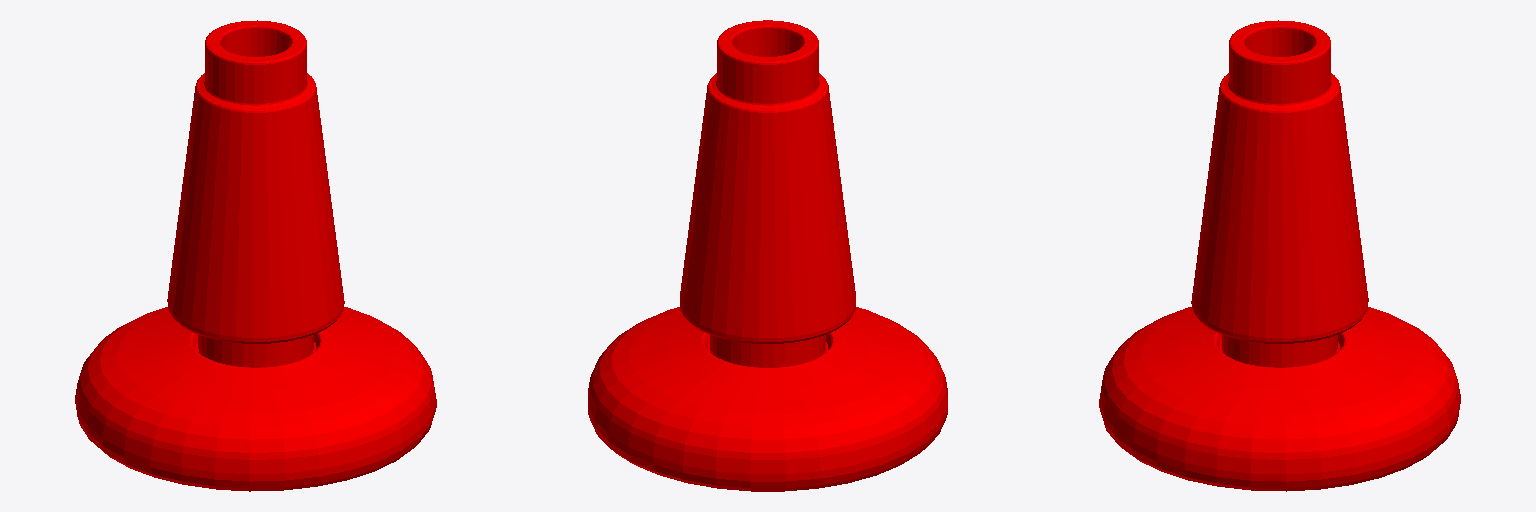
robot.urdf — corn:
<?xml version="1.0"?>
<robot name="corn">
  <link name="base">
   <contact>
      <lateral_friction value="1.0"/>
      <rolling_friction value="0.0"/>
      <contact_cfm value="0.0"/>
      <contact_erp value="1.0"/>
    </contact>
    <inertial>
      <origin rpy="0 0 0" xyz="0 0 0"/>
       <mass value="1.0"/>
       <inertia ixx="1" ixy="0" ixz="0" iyy="1" iyz="0" izz="1"/>
    </inertial>
    <visual>
      <geometry>
        <mesh filename="OBJ/corn.obj" scale="1 1 1"/>
      </geometry>
      <origin rpy="0 0 0" xyz="0 0 0" />
      <material name="red"/>
    </visual>
    <collision>
      <origin rpy="0 0 0" xyz="0 0 0"/>
      <geometry>
         <mesh filename="OBJ/corn.obj" scale="1 1 1"/>
      </geometry>
    </collision>
  </link>

<material name="red"><color rgba="0.99 0 0 1"/></material>
<material name="orange"><color rgba="1 0.5 0 1"/></material>
<material name="yellow"><color rgba="0.95 0.95 0 1"/></material>
<material name="green"><color rgba="0 0.99 0 1"/></material>
<material name="skyblue"><color rgba="0.53 0.81 0.92 1"/></material>
<material name="blue"><color rgba="0 0 0.99 1"/></material>
<material name="purple"><color rgba="0.95 0 0.95 1"/></material>



</robot>

--- Render facts (derived) ---
3 views of the same robot in one strip: view 1: azimuth 30°, elevation 25°; view 2: azimuth 150°, elevation 25°; view 3: azimuth 270°, elevation 25° (orthographic).
Model corn with 1 links and 0 joints (none), rooted at base, posed every joint at zero.
Visible links, largest first — view 1: base; view 2: base; view 3: base.
Link boxes in pixels (<box>): base: <box>75,20,436,491</box>; base: <box>588,20,947,491</box>; base: <box>1099,20,1460,491</box>.
Size in the robot's own frame: 0.0801 by 0.0801 by 0.0922 metres.
1 mesh visuals loaded from 1 distinct referenced files (1 OBJ).